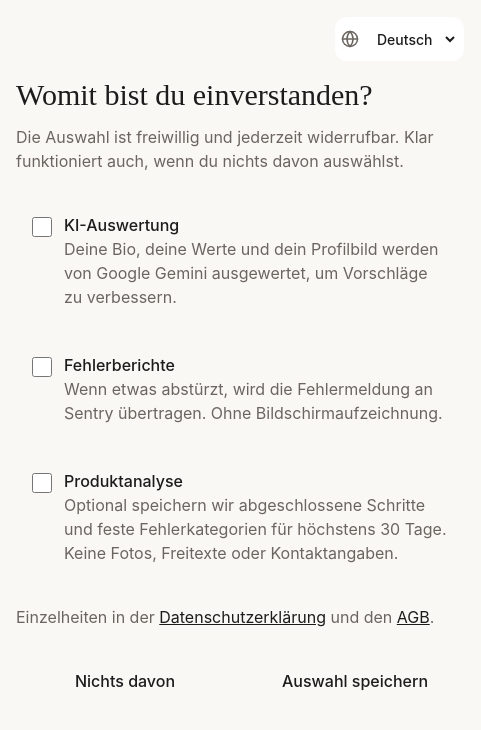
Scenario: consent UI persistence acknowledgement › does not synthesize consent from an empty successful response
What coordinates should you click on to do the following:
click the button "Nichts davon"
I would click on:
 (125, 681)
Its box is left=16, top=653, right=234, bottom=709.
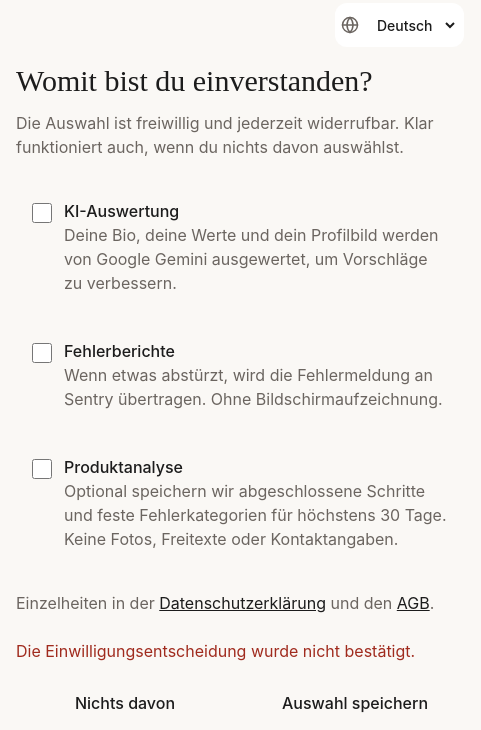
Check: the message "Die Einwilligungsentscheidung wurde nicht bestätigt." is shown, box left=16, top=639, right=464, bottom=663
